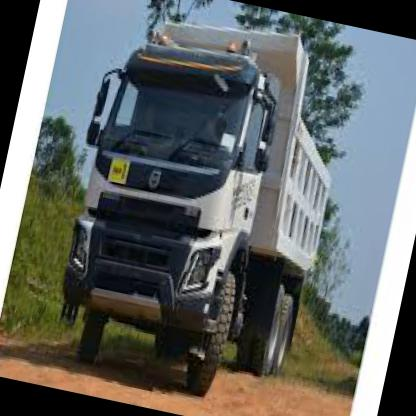truck: (52, 30, 291, 389)
